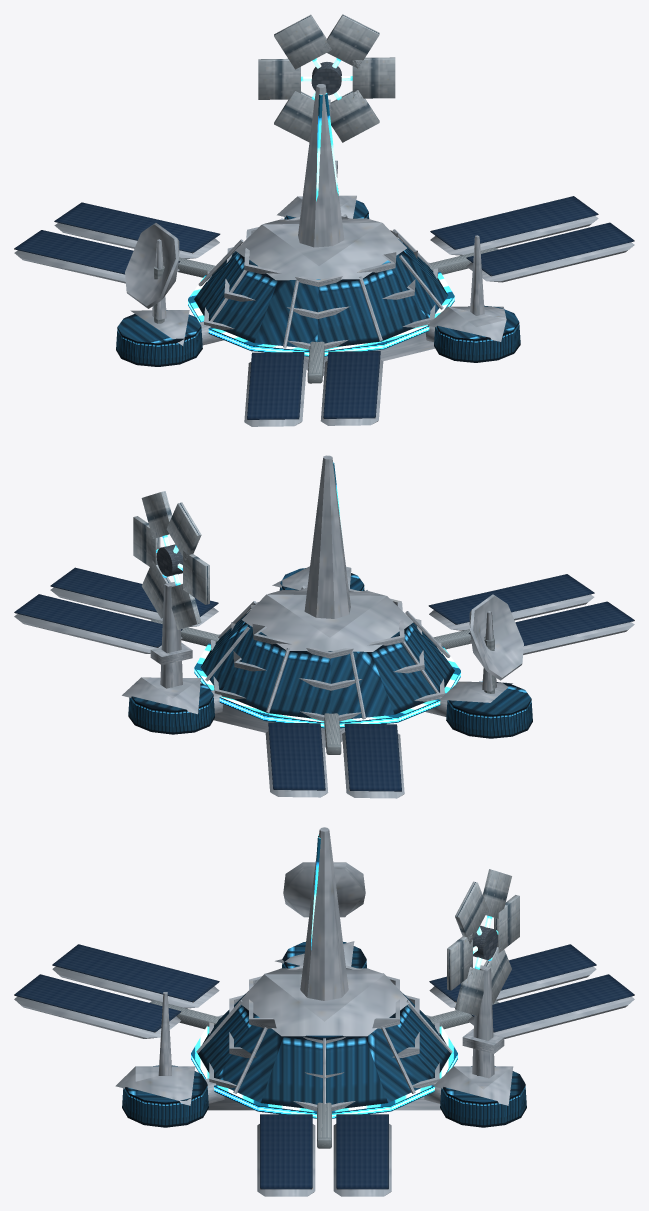
Rendered from alliance_research_outpost_recreated_lod2.glb.
3 renders of one model, top to bottom at view 1: azimuth 30°, elevation 25°; view 2: azimuth 150°, elevation 25°; view 3: azimuth 270°, elevation 25°, orthographic. The views are drawn at different scales.
Parts seen in each view (by area): view 1: alliance_research_outpost_far_source; view 2: alliance_research_outpost_far_source; view 3: alliance_research_outpost_far_source.
Part boxes in pixels (box(x1,y1,x2,y2)): alliance_research_outpost_far_source: box(14, 14, 634, 426); alliance_research_outpost_far_source: box(14, 455, 634, 798); alliance_research_outpost_far_source: box(14, 827, 634, 1196).
Bounding box in the file's own units: 7.23 × 3.37 × 7.58.
1 material, 1 textured.
